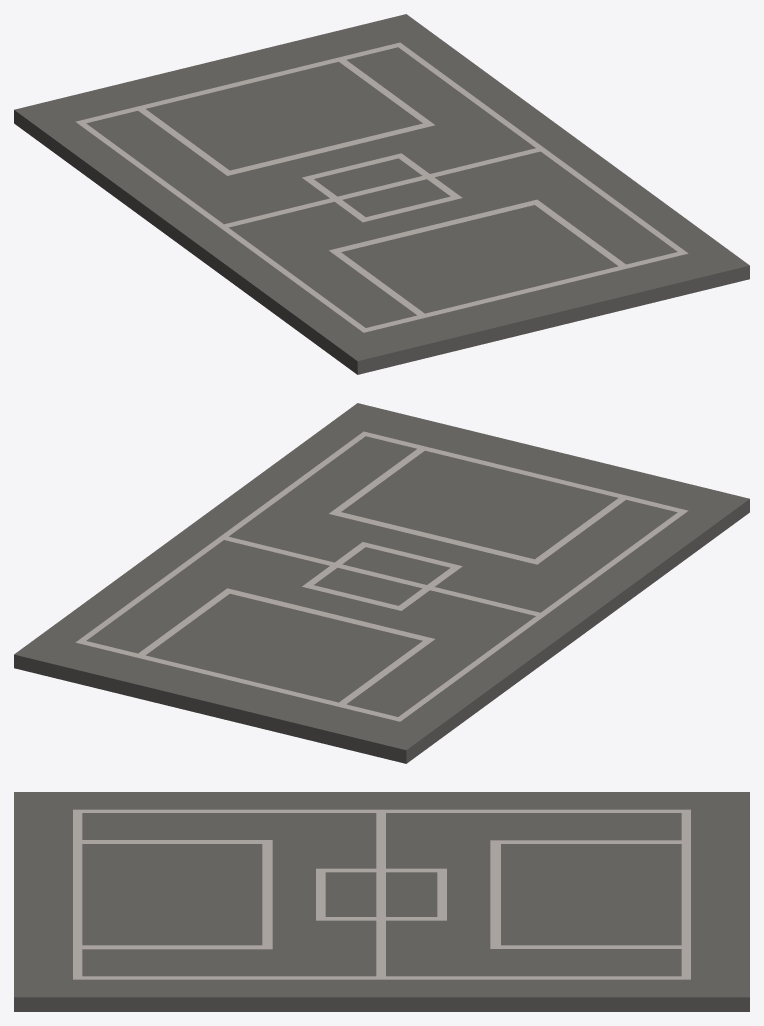
The model's file is SA_Env_Court.glb.
3 views of the same model, one above another, from view 1: azimuth 30°, elevation 25°; view 2: azimuth 150°, elevation 25°; view 3: azimuth 270°, elevation 25° (orthographic). The views are drawn at different scales.
Visible parts, largest first — view 1: SA_Env_Court; view 2: SA_Env_Court; view 3: SA_Env_Court.
Boxes of the visible parts, x1,y1,x2,y2 form: SA_Env_Court: (14,14,749,374); SA_Env_Court: (14,403,749,763); SA_Env_Court: (14,792,749,1011).
Bounding box in the file's own units: 12.6 × 0.42 × 19.11.
1 material, 1 textured.
